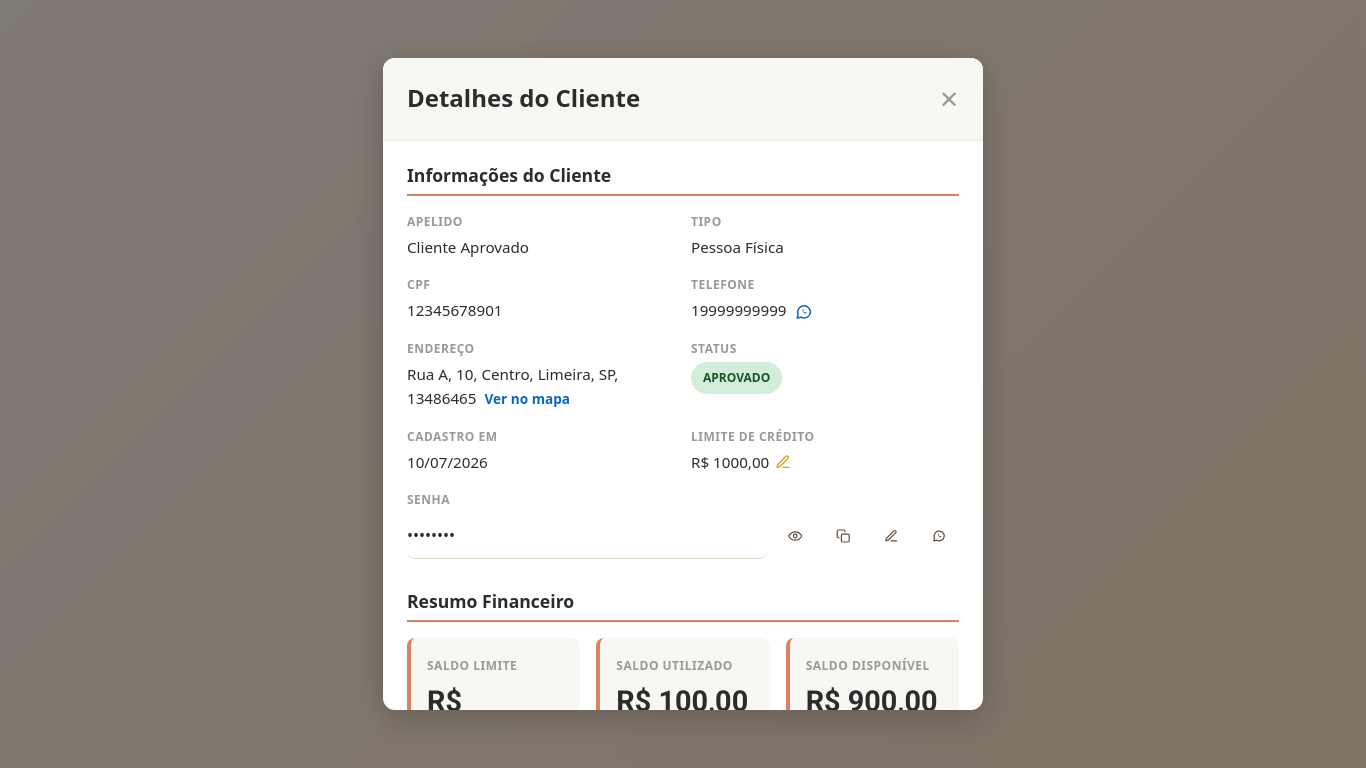
Test case: CustomerDetailModal security flows › bloqueia alteracao de limite quando valor informado e invalido
Click the button named "Editar limite de crédito" at (783, 462), box [775,454,791,470]
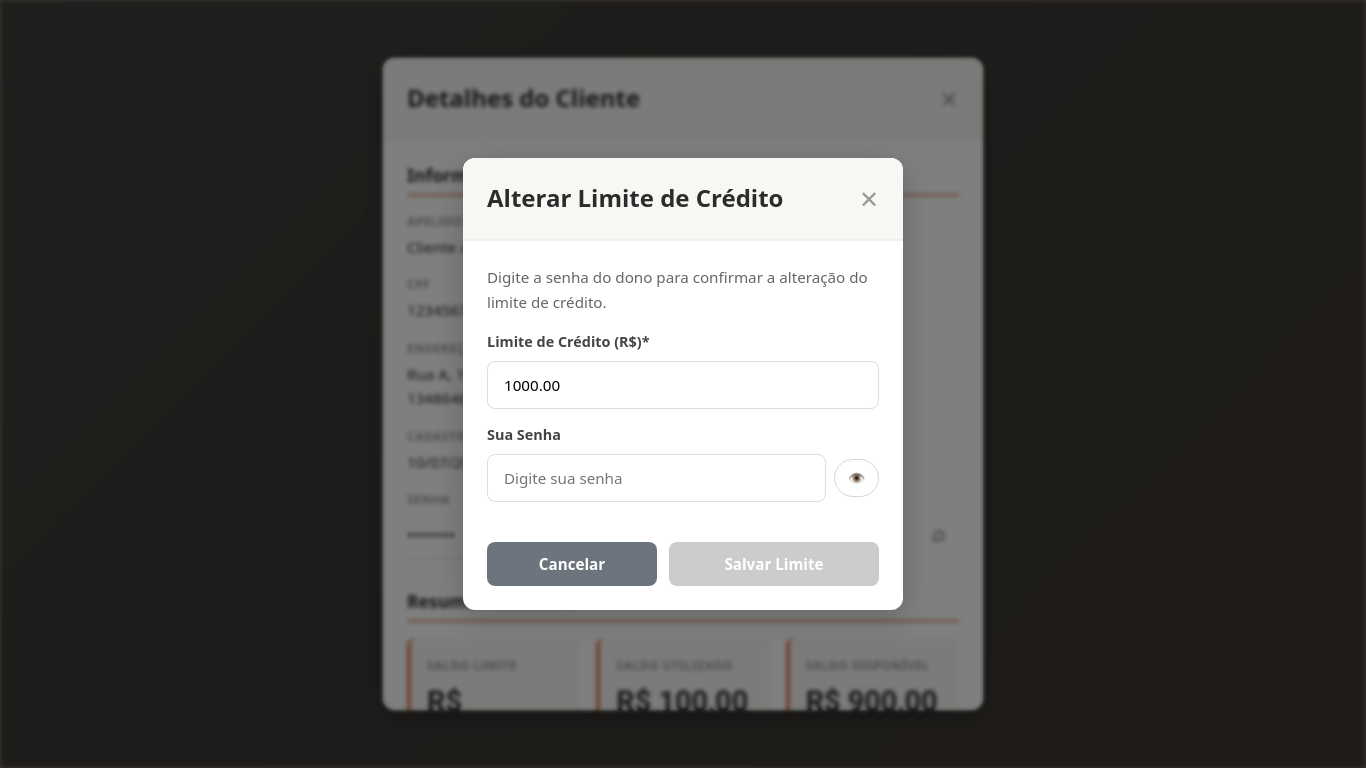
Replace the text in the number field with placeholder "Ex: 5000.00" with "0" at (683, 385), box [487,361,879,409]
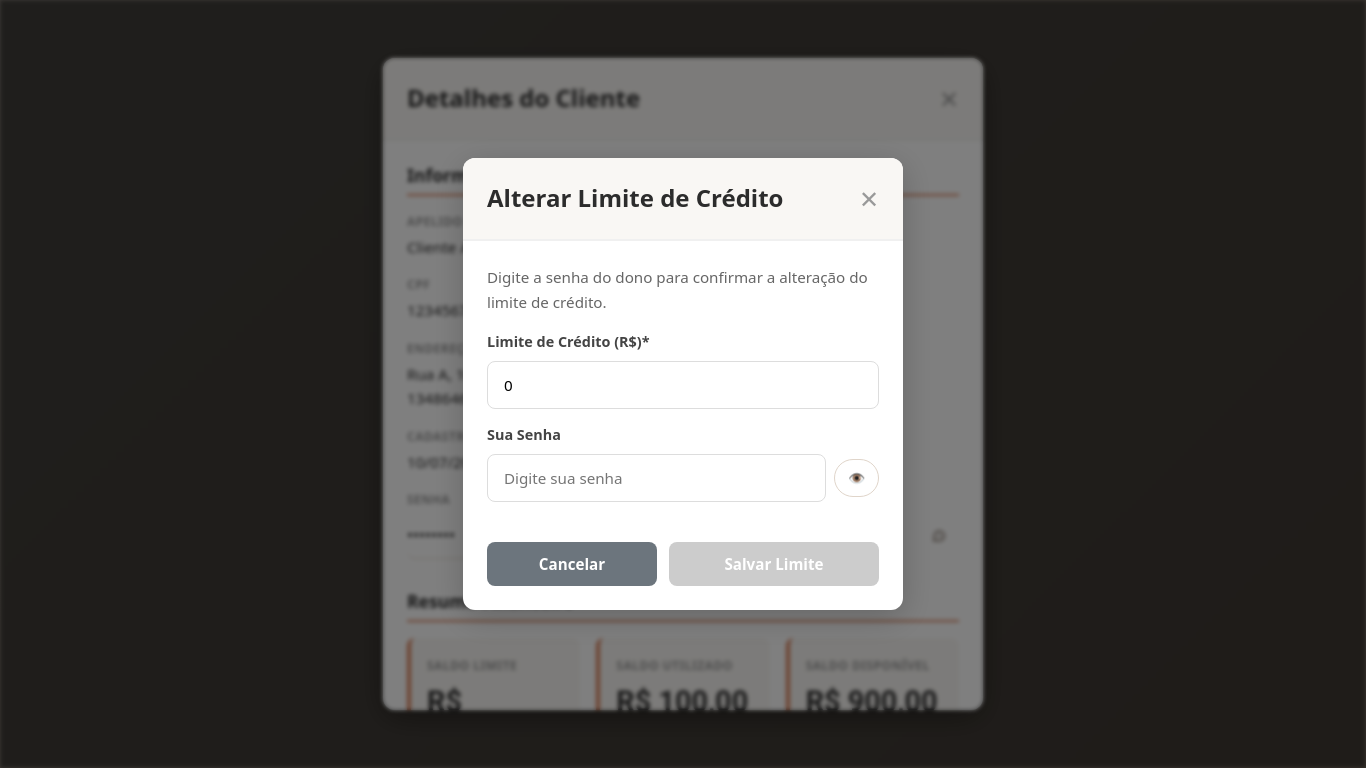
Type "senha-correta" into the password field with placeholder "Digite sua senha" at (657, 478), box [487,454,826,502]
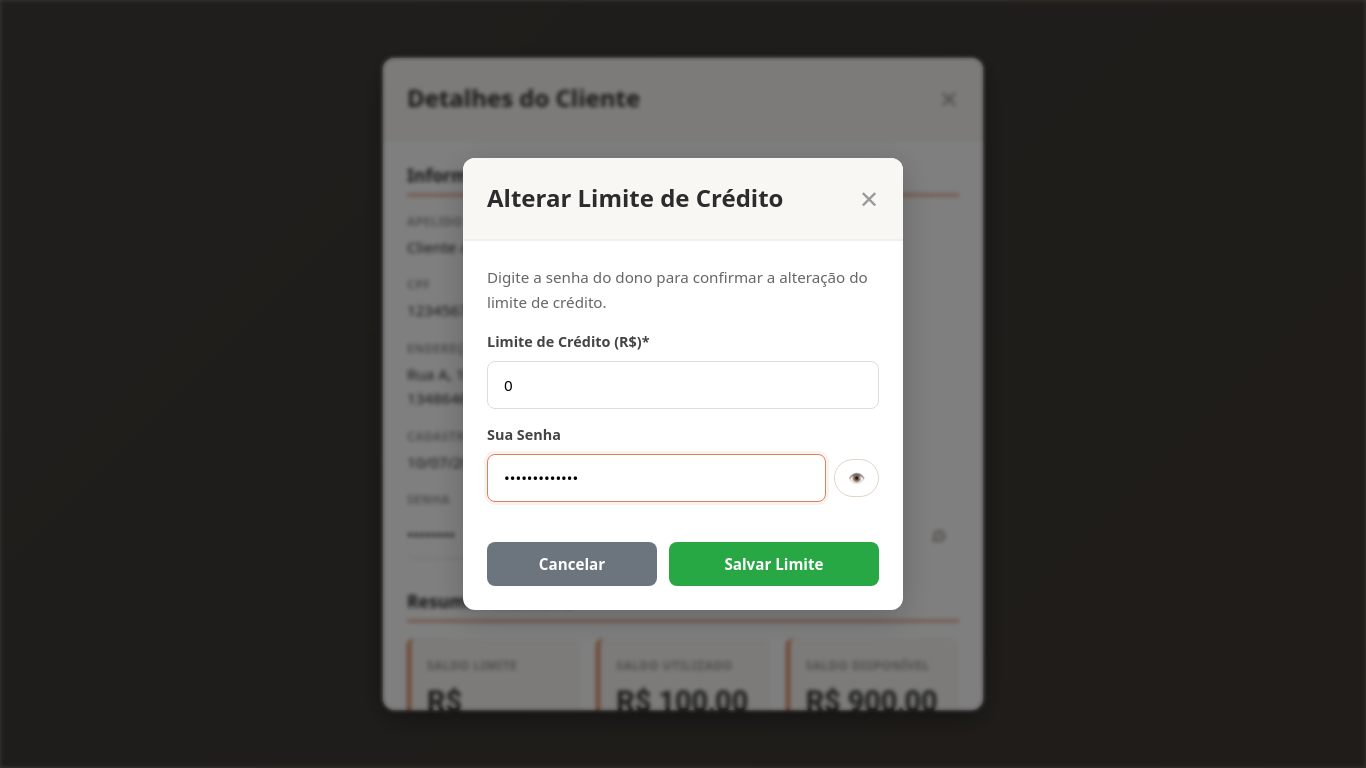
Click the button "Salvar Limite" at (774, 564), box [669,542,879,586]
(page scrolled)
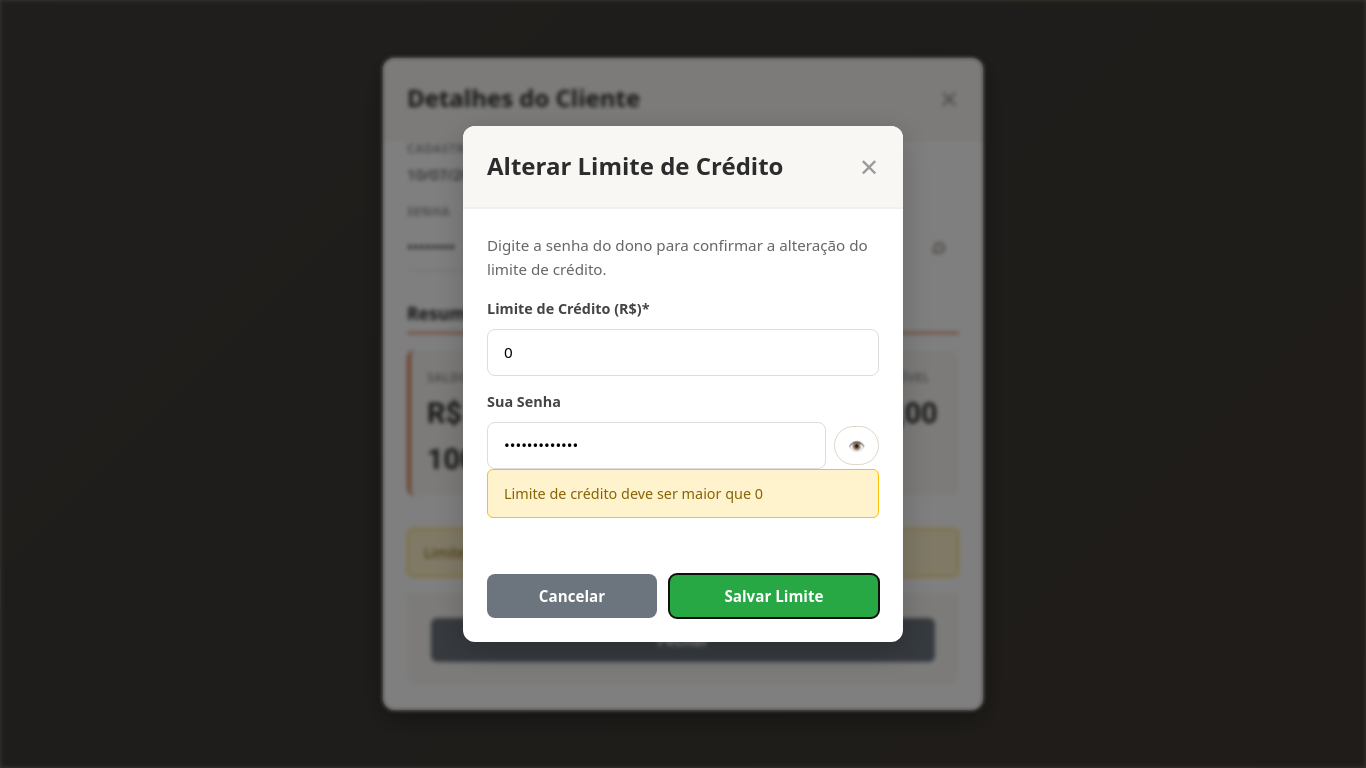
Result: the text "Limite de crédito deve ser maior que 0" below "R$ 100,00" is shown at [424,543,683,562]
